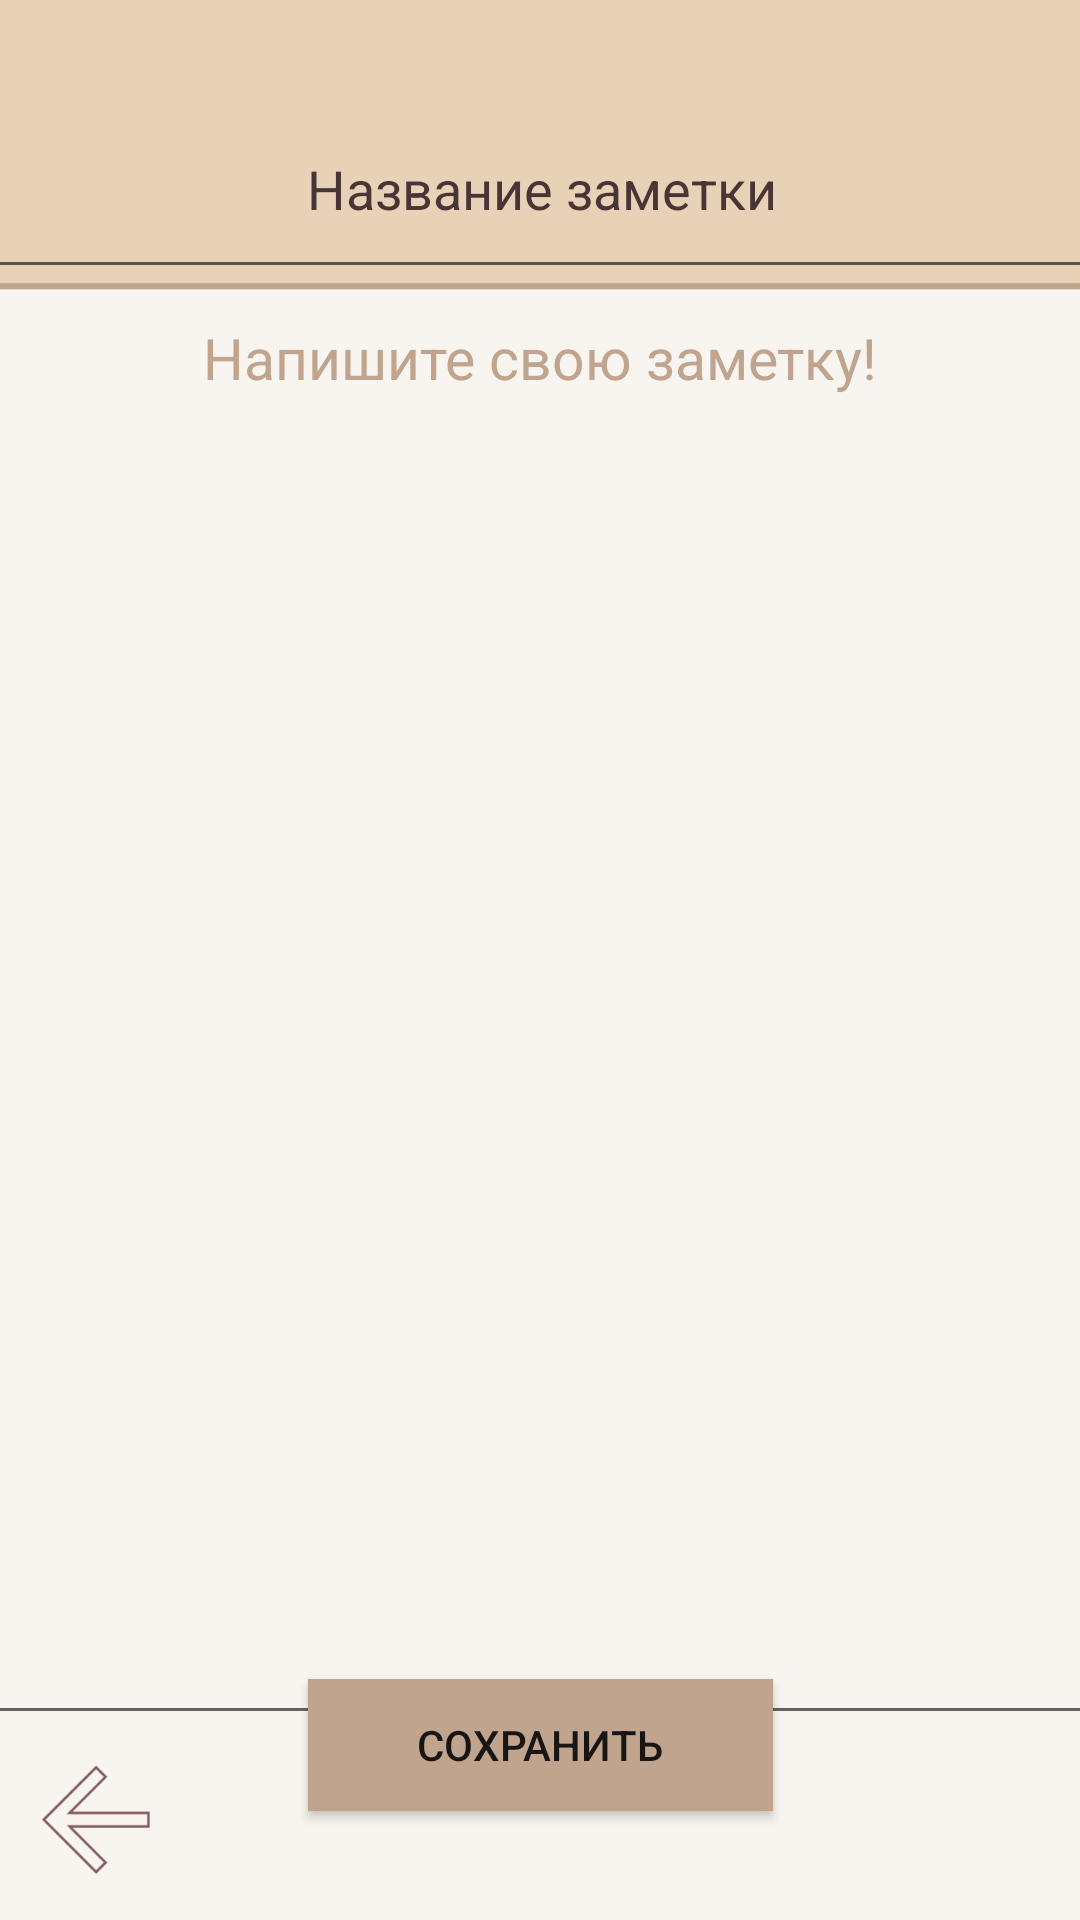

Icons on this 1080 × 1920 Android screen, each with its box as box=[x1, y1, x2, y2]:
back: box=[42, 1766, 150, 1874]
